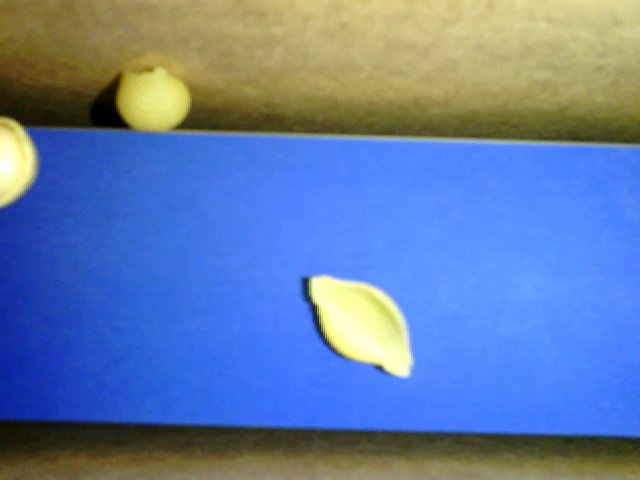shell: (309, 275, 412, 377), (116, 66, 191, 133)
tortellini: (1, 116, 39, 207)
